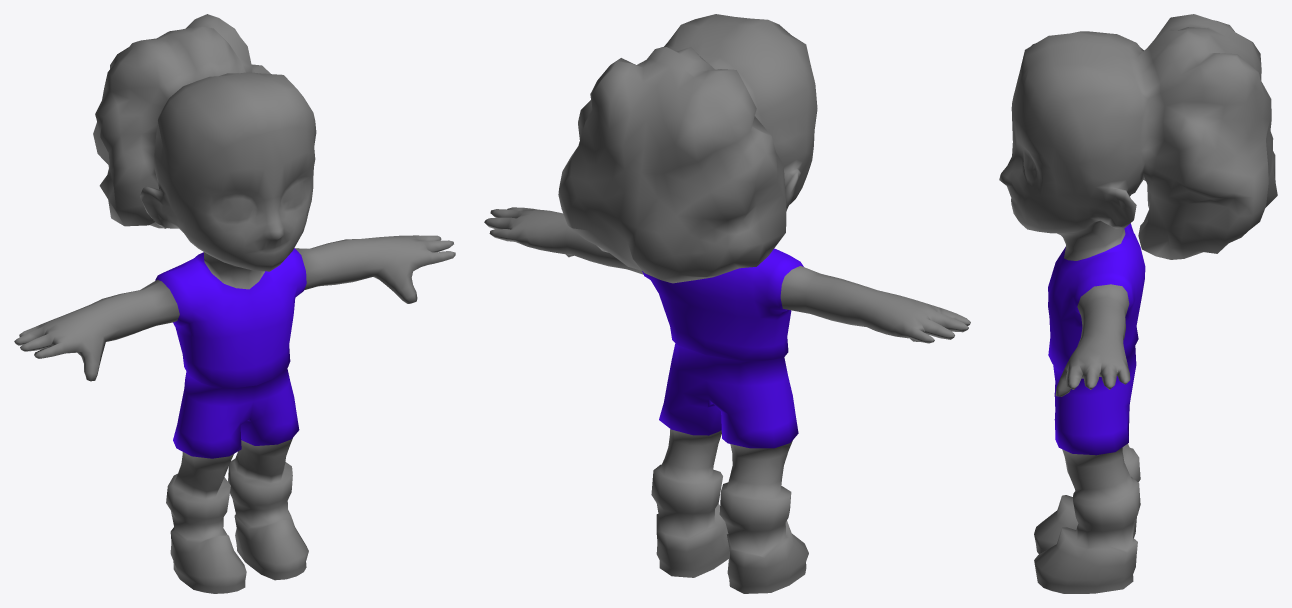
File: Alison_Low.fbx
3 renders of one model, left to right at view 1: azimuth 30°, elevation 25°; view 2: azimuth 150°, elevation 25°; view 3: azimuth 270°, elevation 25°, orthographic. The views are drawn at different scales.
Visible parts, largest first — view 1: alison_low; view 2: alison_low; view 3: alison_low.
Boxes of the visible parts, x1,y1,x2,y2 form: alison_low: [14, 14, 455, 593]; alison_low: [484, 14, 970, 593]; alison_low: [999, 14, 1277, 593].
Bounding box in the file's own units: 79.05 × 87.97 × 41.23.
